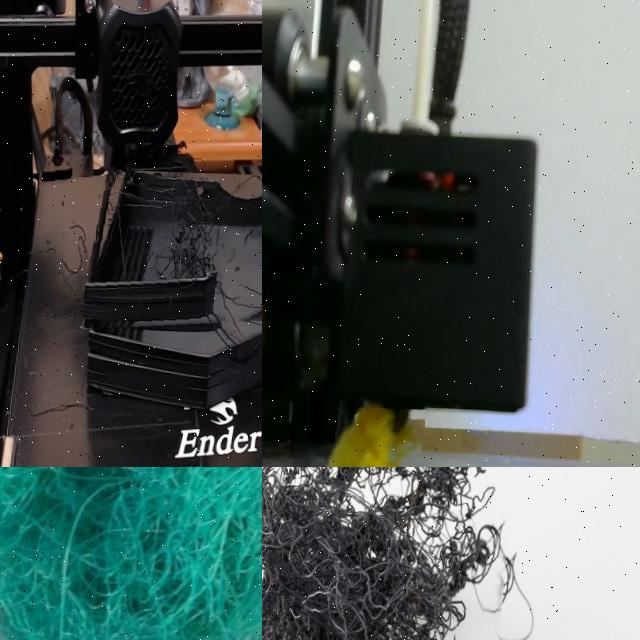spaghetti: (0, 467, 262, 640), (262, 467, 509, 640), (43, 167, 262, 341), (323, 405, 426, 467)
